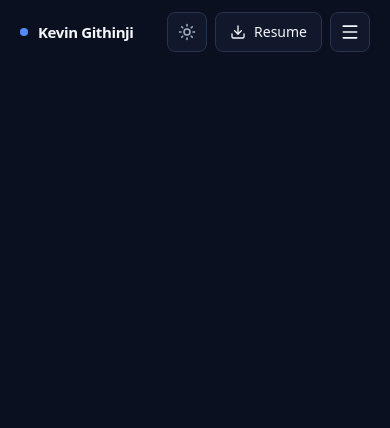
Scenario: Header › opens the mobile menu, then closes it when a link is chosen
Click the button named "Open menu" at {"x": 350, "y": 32}, box 330,12 -> 370,52
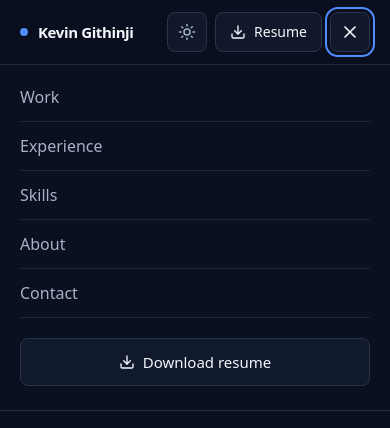
Result: the button named "Close menu" is expanded at 330,12 -> 370,52
Click the link "Contact" at {"x": 49, "y": 293}, box 20,282 -> 78,304
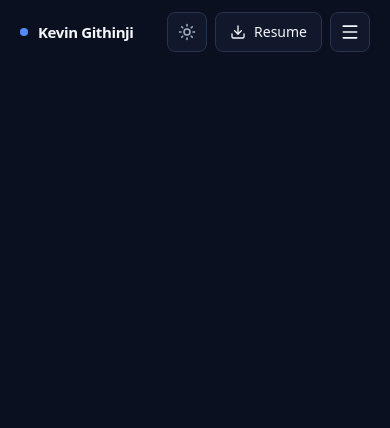
Result: the navigation bar "Mobile" is gone
Result: the button named "Open menu" is collapsed at 330,12 -> 370,52
